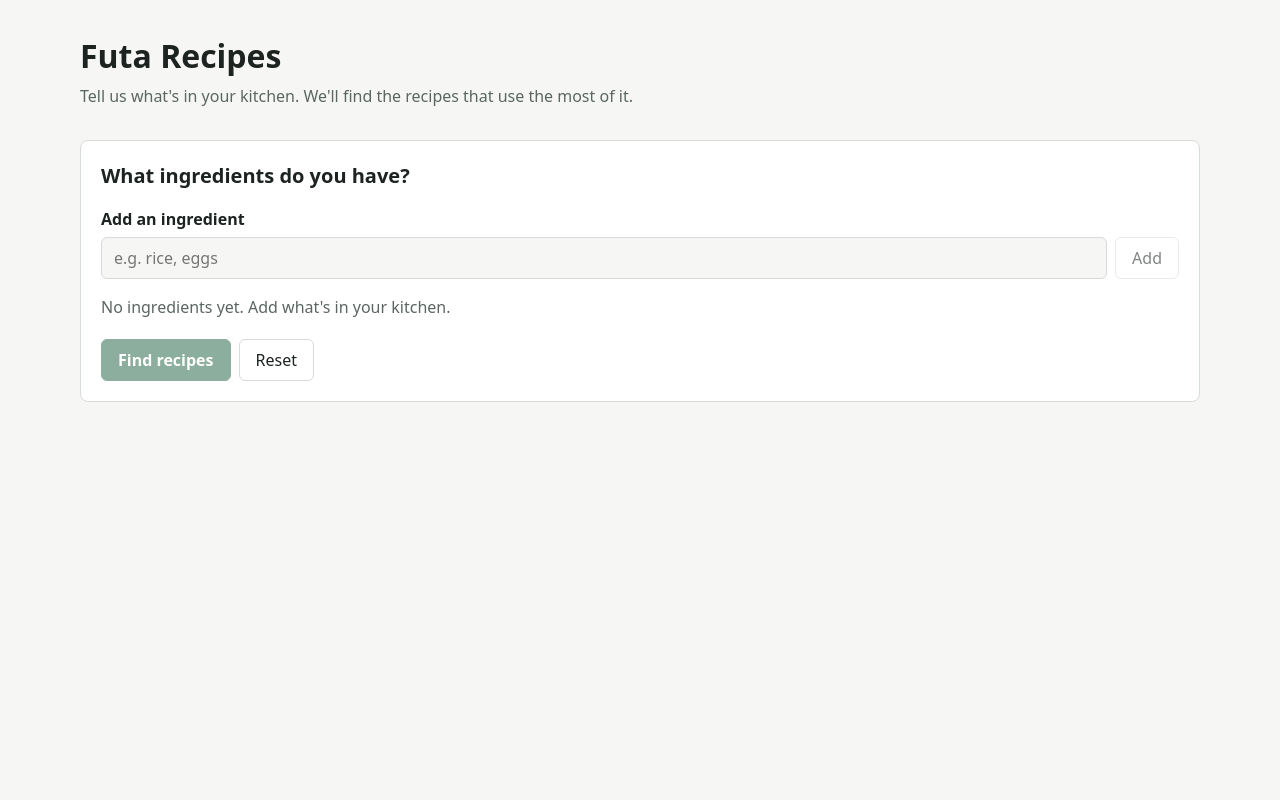
pagine sur la recherche lancée, même si la liste a changé depuis
Type "rice" into the field labelled "Add an ingredient". click: (604, 258)
box: x1=101 y1=237 x2=1107 y2=279
Then press Enter
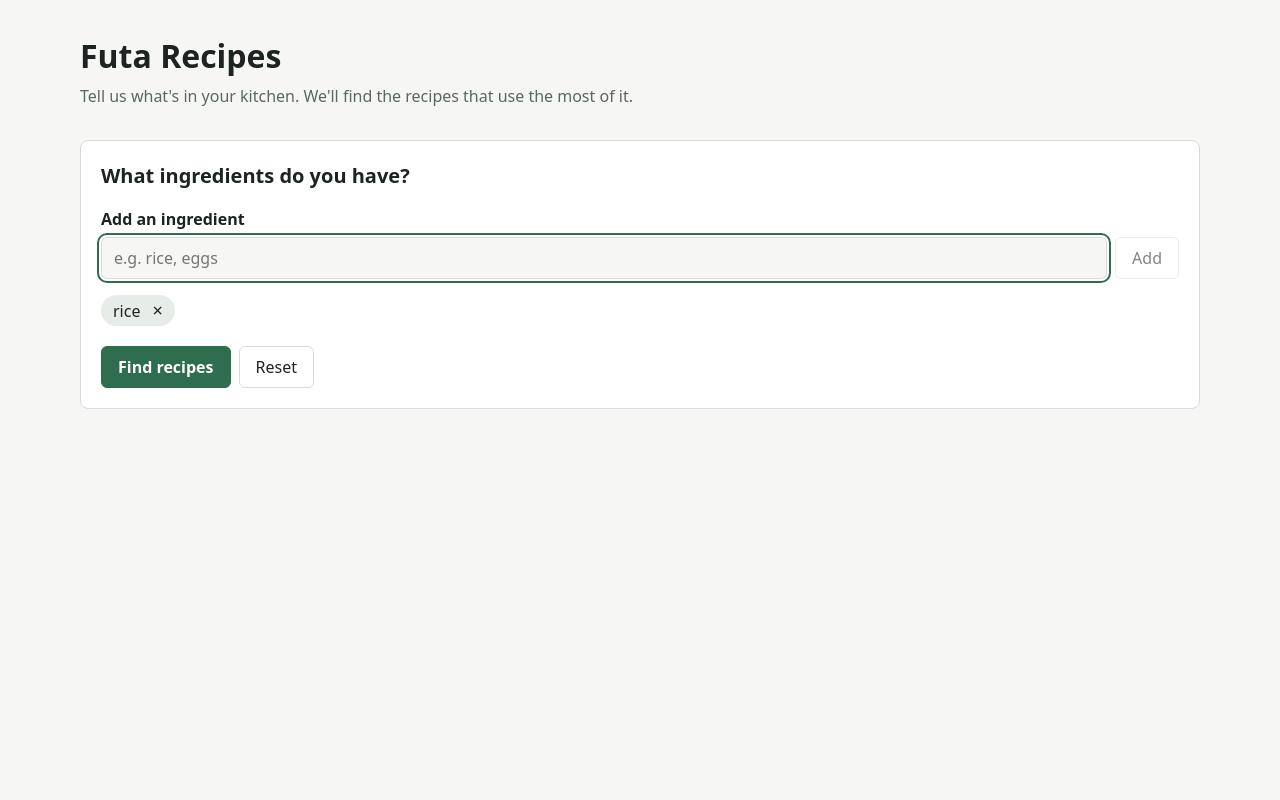
Click the button "Find recipes". click: click(166, 367)
box: x1=101 y1=346 x2=230 y2=388
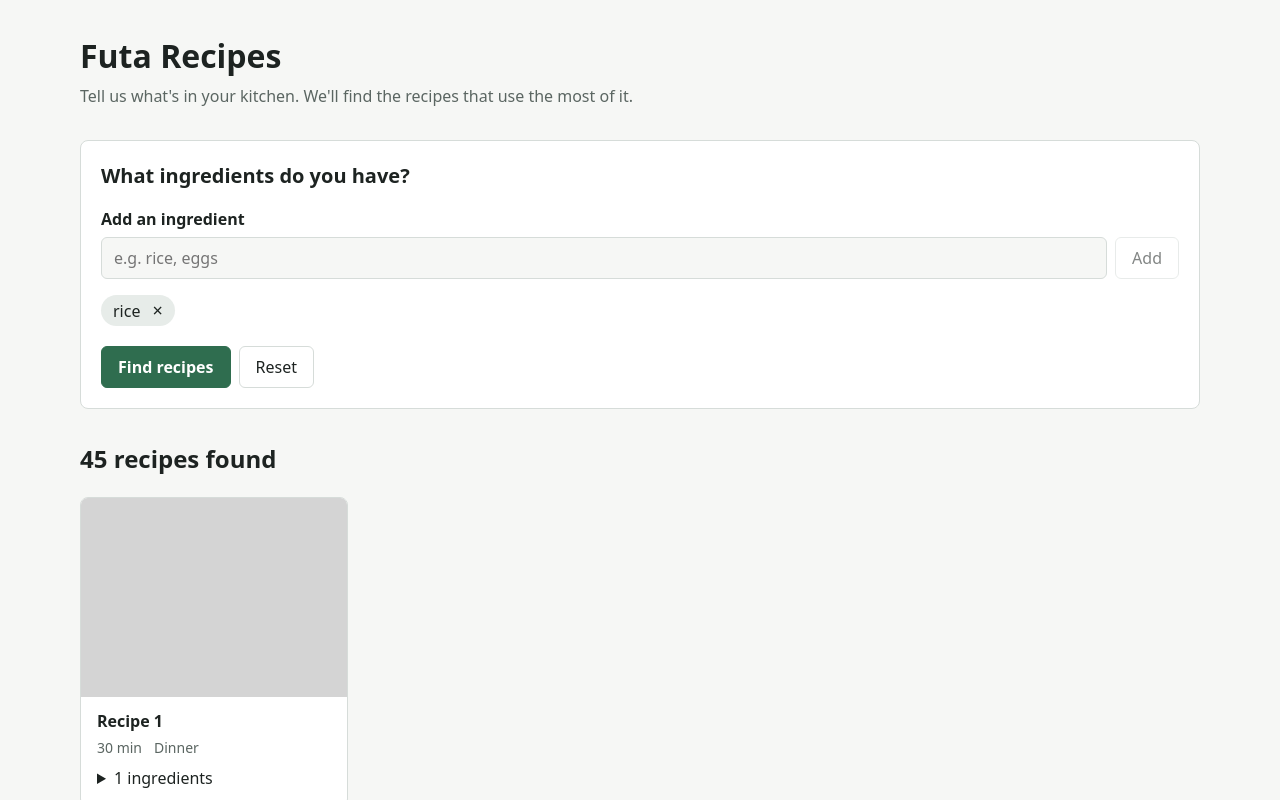
Check: the heading "45 recipes found" is shown, box x1=80 y1=442 x2=276 y2=475
Type "bread" into the field labelled "Add an ingredient". click: (604, 258)
box: x1=101 y1=237 x2=1107 y2=279
Then press Enter
(page scrolled)
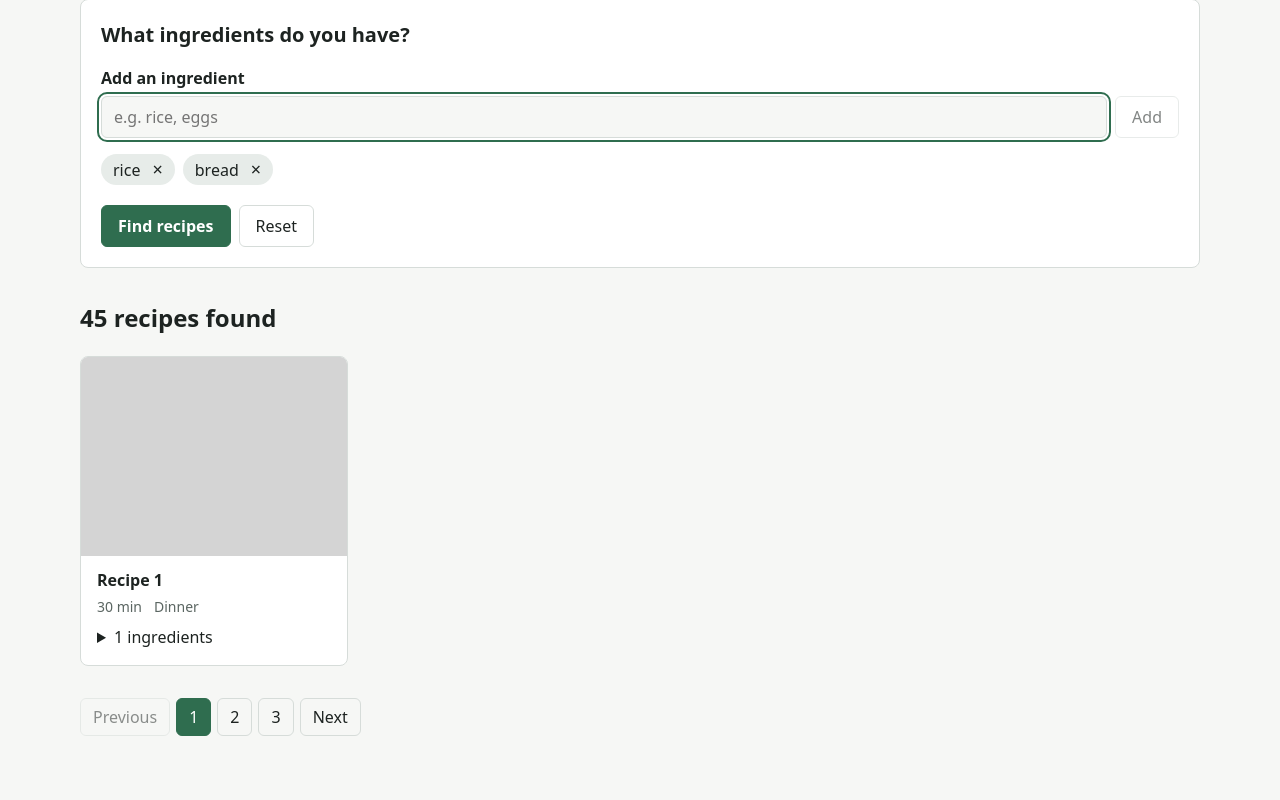
Click the button named "Page 2". click: click(235, 717)
box: x1=217 y1=698 x2=252 y2=736
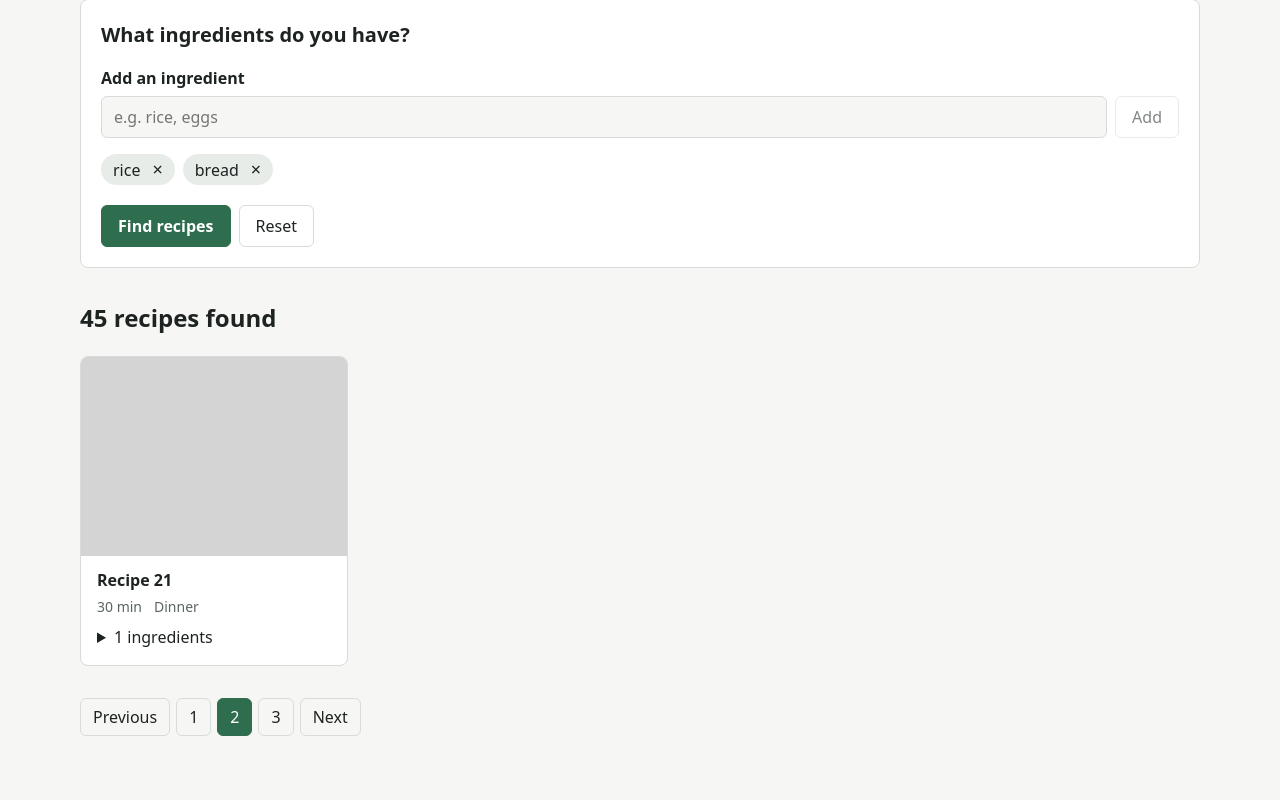
Check: the heading "Recipe 21" is shown, box x1=97 y1=569 x2=172 y2=591
